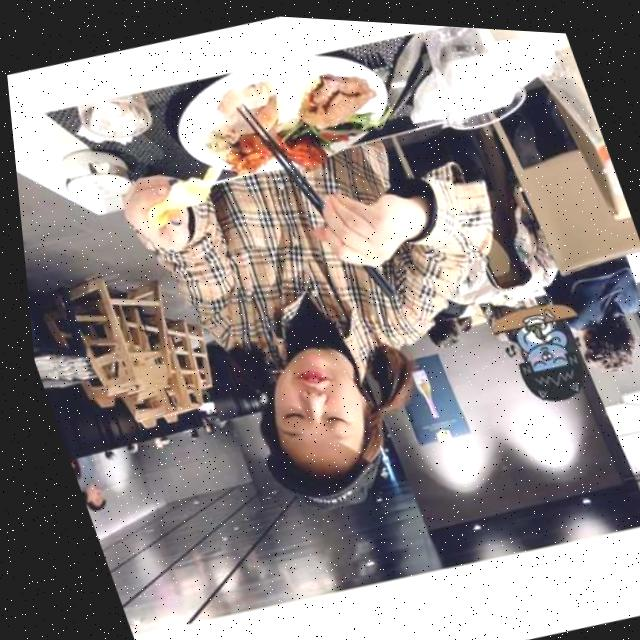eating-person: (31, 1, 588, 560)
